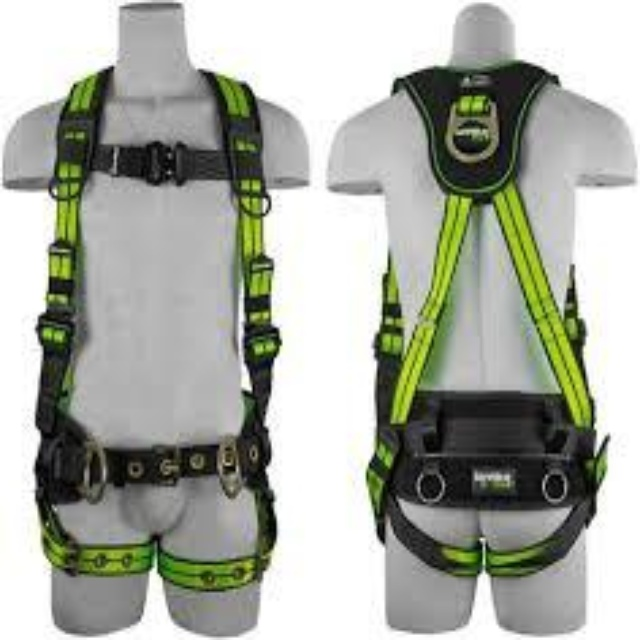Arnes_seguridad: (27, 59, 285, 594), (361, 61, 613, 581)
